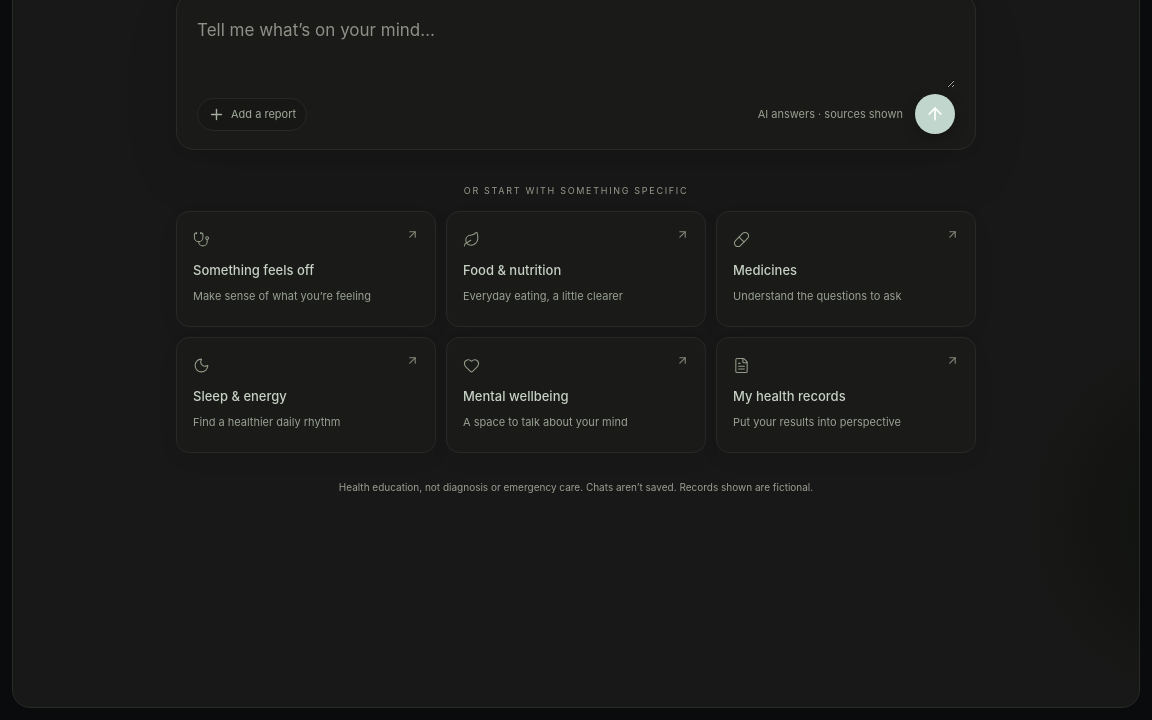
Scenario: companion interactions › answers from the references when the hosted engine fails
This screenshot has width=1152, height=720.
(page scrolled)
Click the button "Sleep & energy" at (240, 396), box left=176, top=337, right=436, bottom=453
(page scrolled)
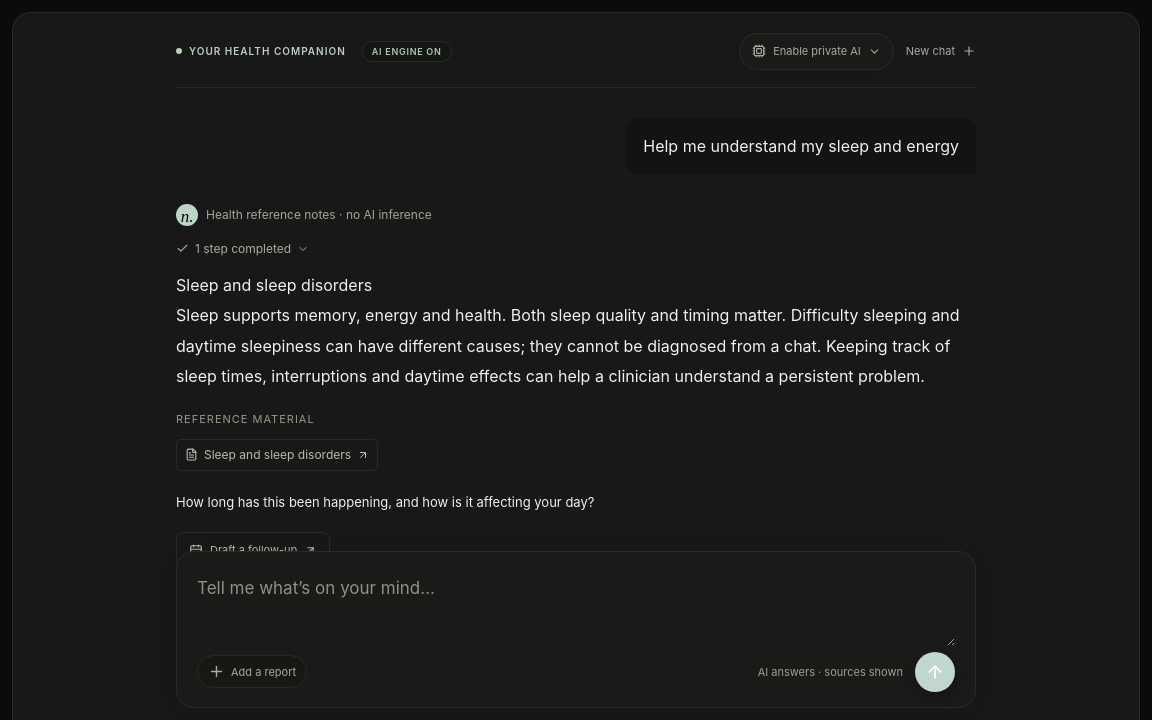
Expected: the link "Sleep and sleep disorders" is shown, left=176, top=439, right=378, bottom=471
